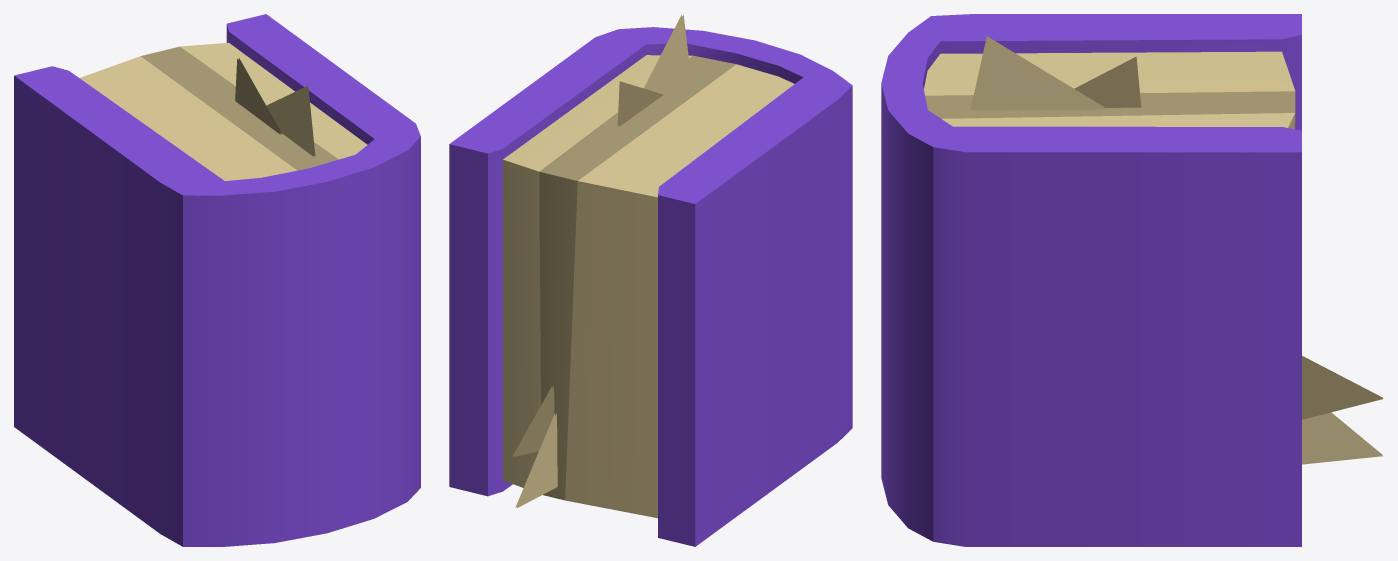
Rendered from book2.fbx.
3 views of the same model, side by side, from view 1: azimuth 30°, elevation 25°; view 2: azimuth 150°, elevation 25°; view 3: azimuth 270°, elevation 25° (orthographic). The views are drawn at different scales.
Visible parts, largest first — view 1: Cube.048; view 2: Cube.048; view 3: Cube.048.
Boxes of the visible parts, <box> form: Cube.048: <box>14,14,420,546</box>; Cube.048: <box>449,14,852,546</box>; Cube.048: <box>881,14,1383,546</box>.
Bounding box in the file's own units: 39.04 × 60.08 × 59.97.
